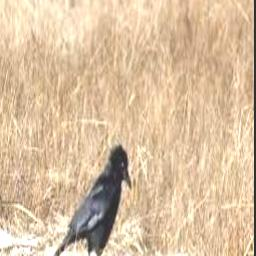Crow: (50, 141, 132, 256)
